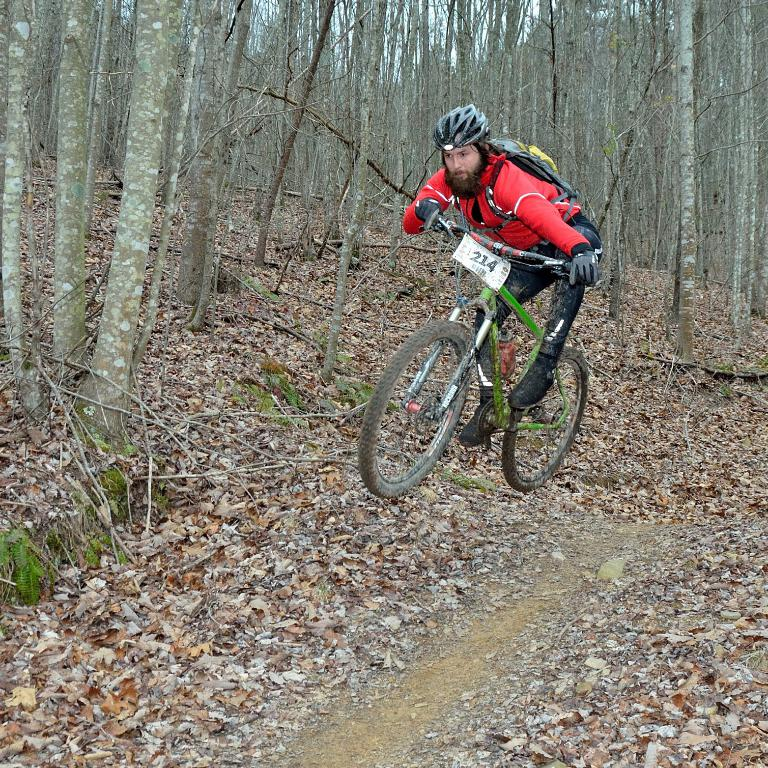Bike: (339, 233, 595, 500)
